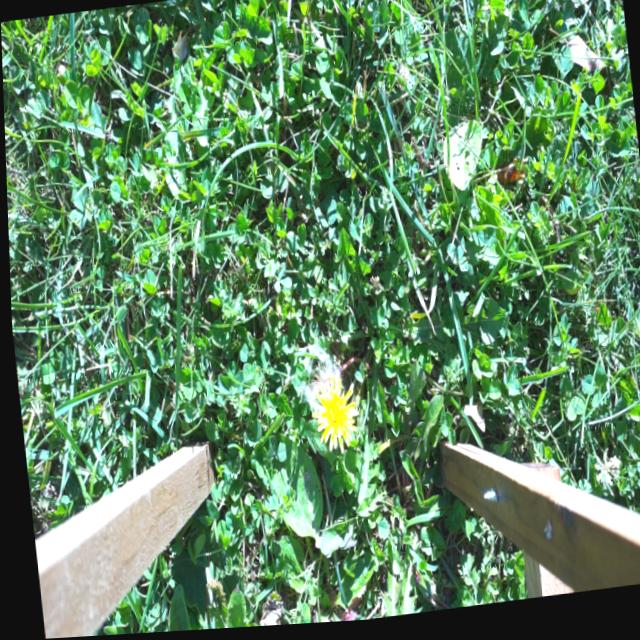base: (355, 357, 377, 391)
flower: (307, 376, 356, 455)
